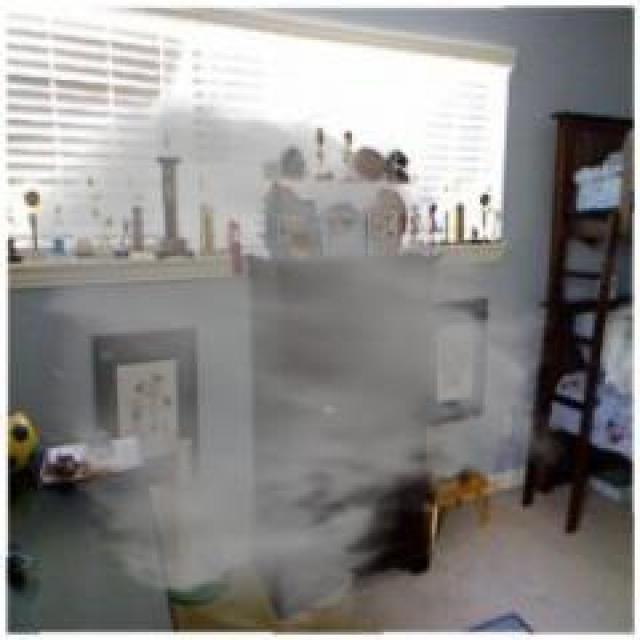Smoke: (18, 90, 570, 634)
